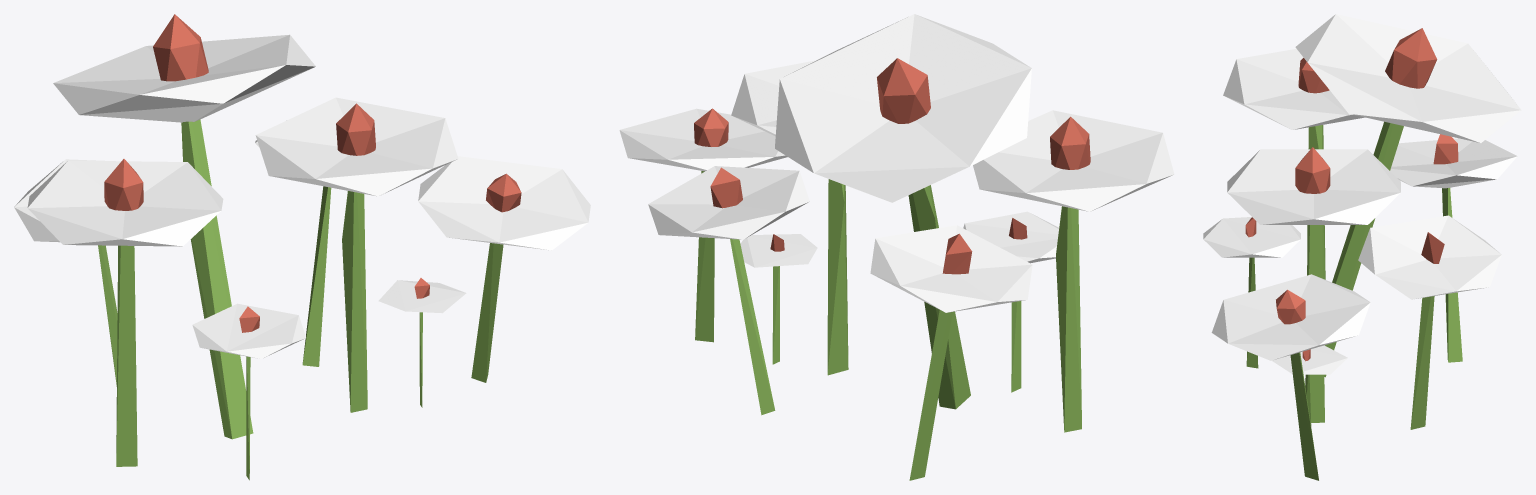
File: Flower_02.fbx
The picture shows the model from 3 angles, left to right: view 1: azimuth 30°, elevation 25°; view 2: azimuth 150°, elevation 25°; view 3: azimuth 270°, elevation 25°; orthographic projection. The views are drawn at different scales.
Parts seen in each view (by area): view 1: Flower_02; view 2: Flower_02; view 3: Flower_02.
Boxes of the visible parts, x1,y1,x2,y2 form: Flower_02: (14, 14, 590, 480); Flower_02: (619, 14, 1174, 480); Flower_02: (1203, 14, 1521, 480).
Size of the model in its own units: 0.3005 by 0.2127 by 0.1754.
